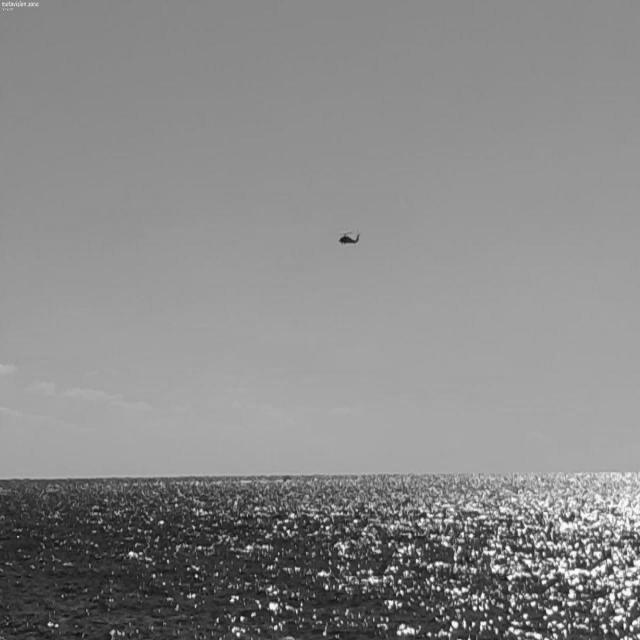helikopter: (325, 212, 387, 272)
